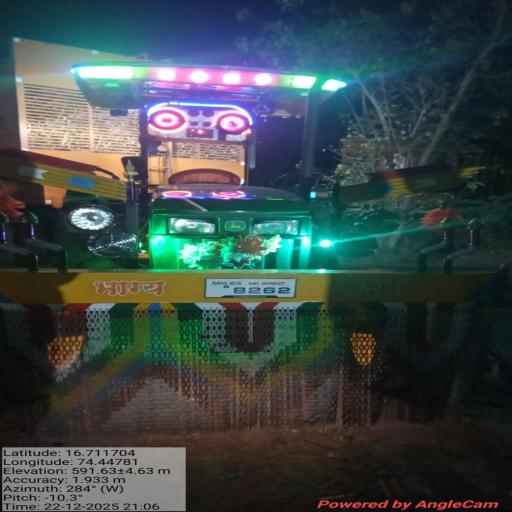number_plate: (205, 279, 296, 298)
